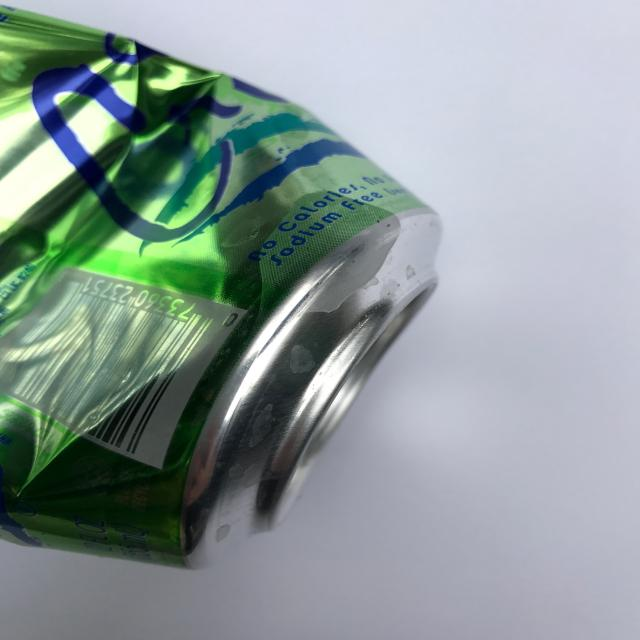metal: (0, 1, 443, 570)
